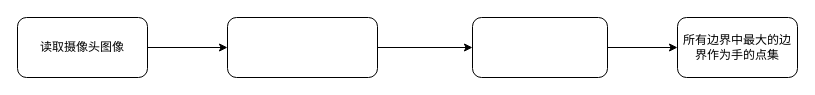
This 815x95 diagram has some shape labels left out. The shapes that lost their labels are listed below. From the top down, each one's centre as x and y in pixels, then its label:
point 302,47: 根据肤色将图片二值化
point 540,47: 提取二值化图像的边界
